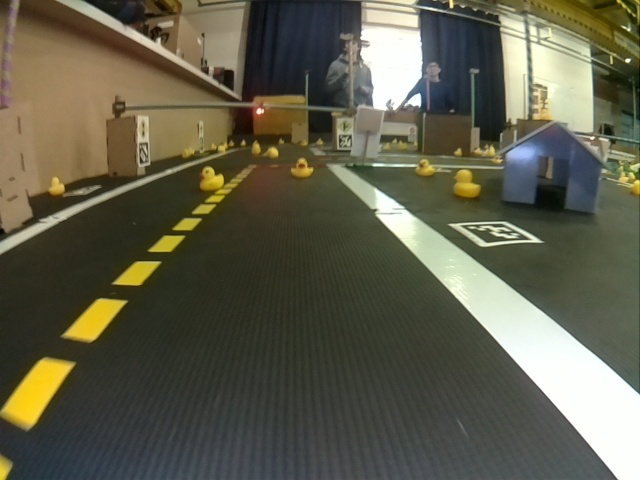Duckie: (453, 169, 480, 198), (199, 168, 224, 191), (290, 158, 314, 177), (416, 158, 434, 175), (48, 177, 65, 194), (267, 146, 279, 160), (251, 142, 260, 155), (454, 148, 463, 155)
Intersection sign: (338, 119, 353, 132)
QR code: (453, 222, 544, 247), (62, 185, 101, 197), (138, 143, 149, 165), (338, 133, 353, 148)
Signal sign: (137, 120, 148, 139)
Traffic light: (255, 103, 265, 116)
